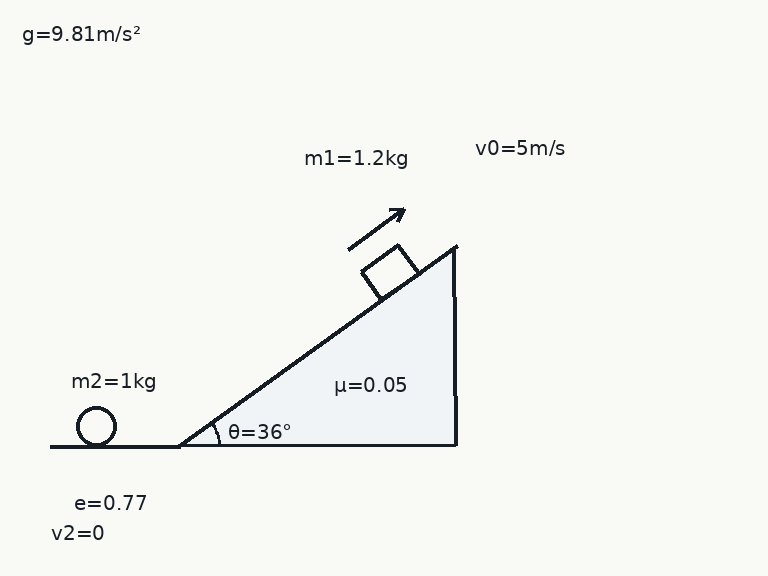ball: (74, 404, 118, 448)
block: (359, 243, 420, 302)
ramp: (177, 244, 457, 448)
